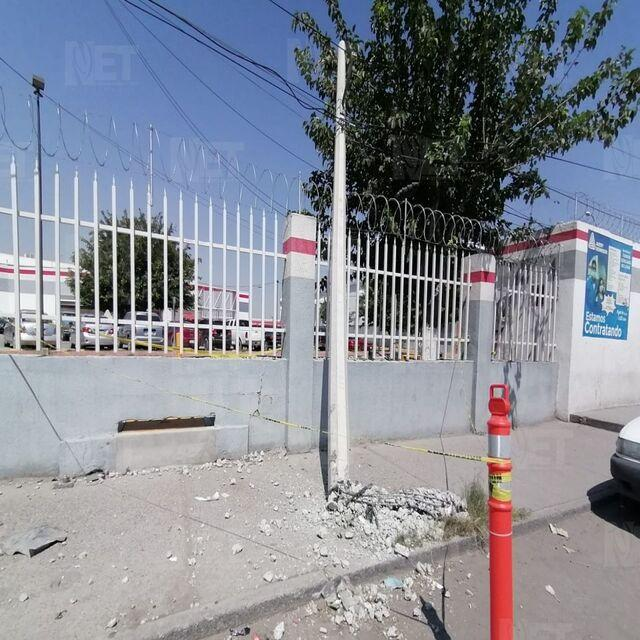Inclined Pole: (330, 39, 352, 502)
